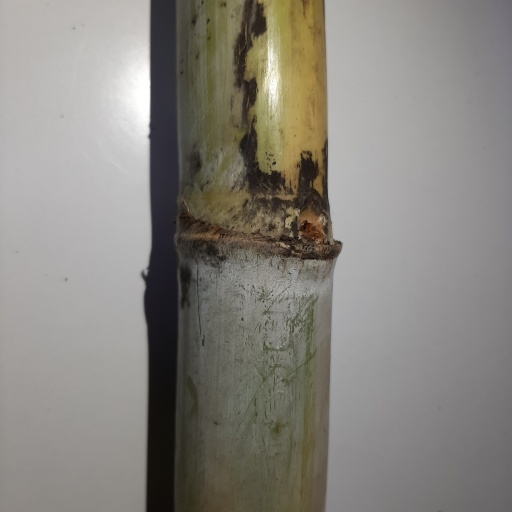Damage_Bud: (297, 204, 327, 247)
